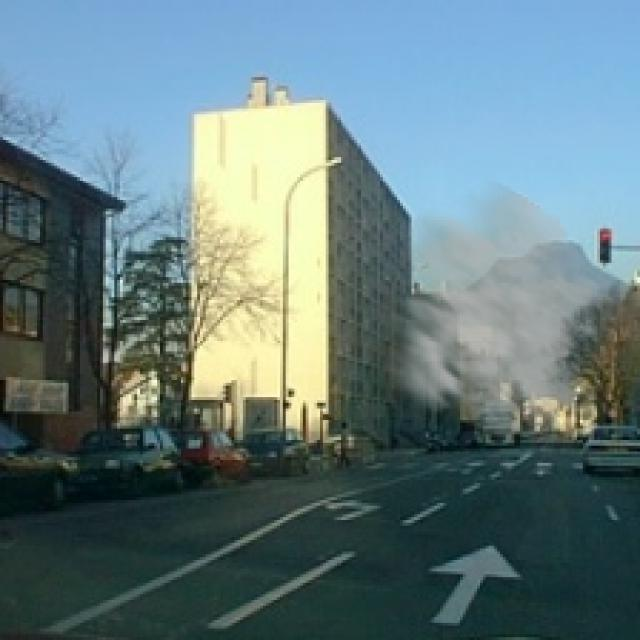Smoke: (348, 174, 614, 454)
